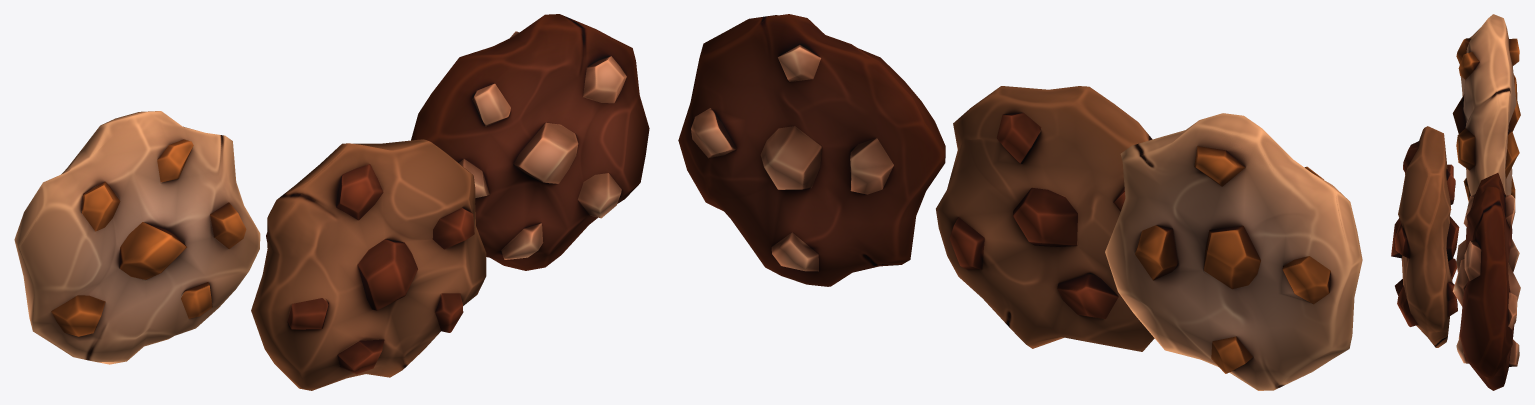
The picture shows the model from 3 angles, left to right: view 1: azimuth 30°, elevation 25°; view 2: azimuth 150°, elevation 25°; view 3: azimuth 270°, elevation 25°; orthographic projection. The views are drawn at different scales.
Parts seen in each view (by area): view 1: cookie_02, cookie_01, cookie_03; view 2: cookie_02, cookie_03, cookie_01; view 3: cookie_01, cookie_03, cookie_02.
Boxes of the visible parts, bbox=[...] form: cookie_02: bbox=[14, 111, 260, 364]; cookie_01: bbox=[251, 139, 486, 390]; cookie_03: bbox=[411, 14, 649, 270]; cookie_02: bbox=[1105, 113, 1362, 390]; cookie_03: bbox=[678, 14, 945, 286]; cookie_01: bbox=[936, 86, 1154, 351]; cookie_01: bbox=[1391, 126, 1459, 347]; cookie_03: bbox=[1452, 173, 1520, 390]; cookie_02: bbox=[1452, 14, 1520, 201].
Bounding box in the file's own units: 1.25 × 0.5571 × 0.2737.
3 materials, 3 textured.
